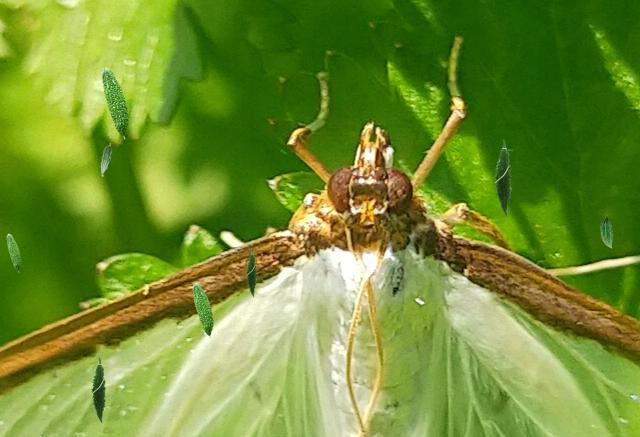ampalaya: (101, 67, 130, 139), (493, 139, 513, 217), (192, 282, 214, 338), (90, 356, 108, 423), (245, 248, 258, 297), (6, 233, 21, 273), (599, 214, 613, 248), (100, 142, 111, 177)
